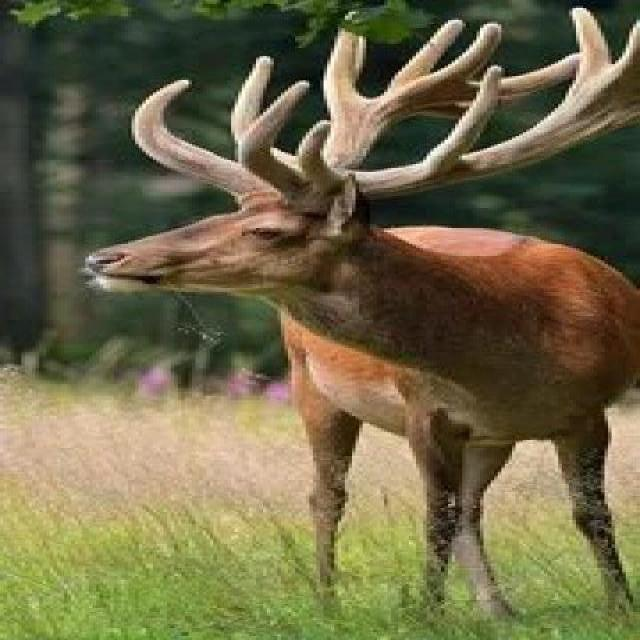deer: (71, 113, 640, 640)
